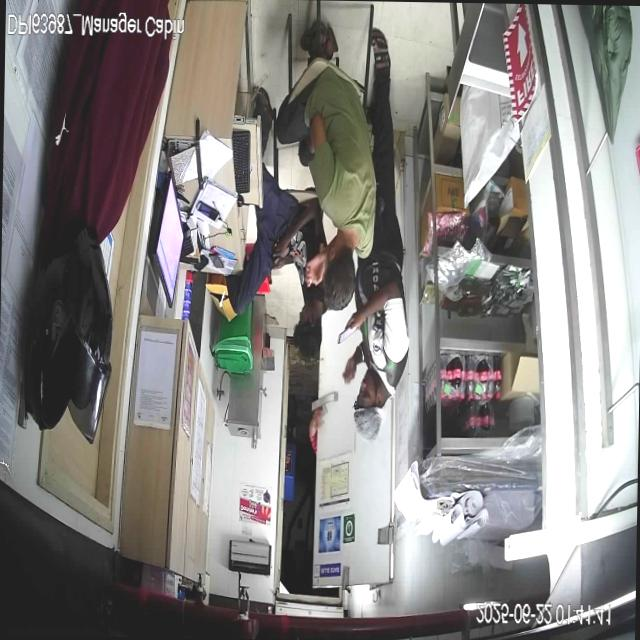helmet: (21, 231, 115, 451)
